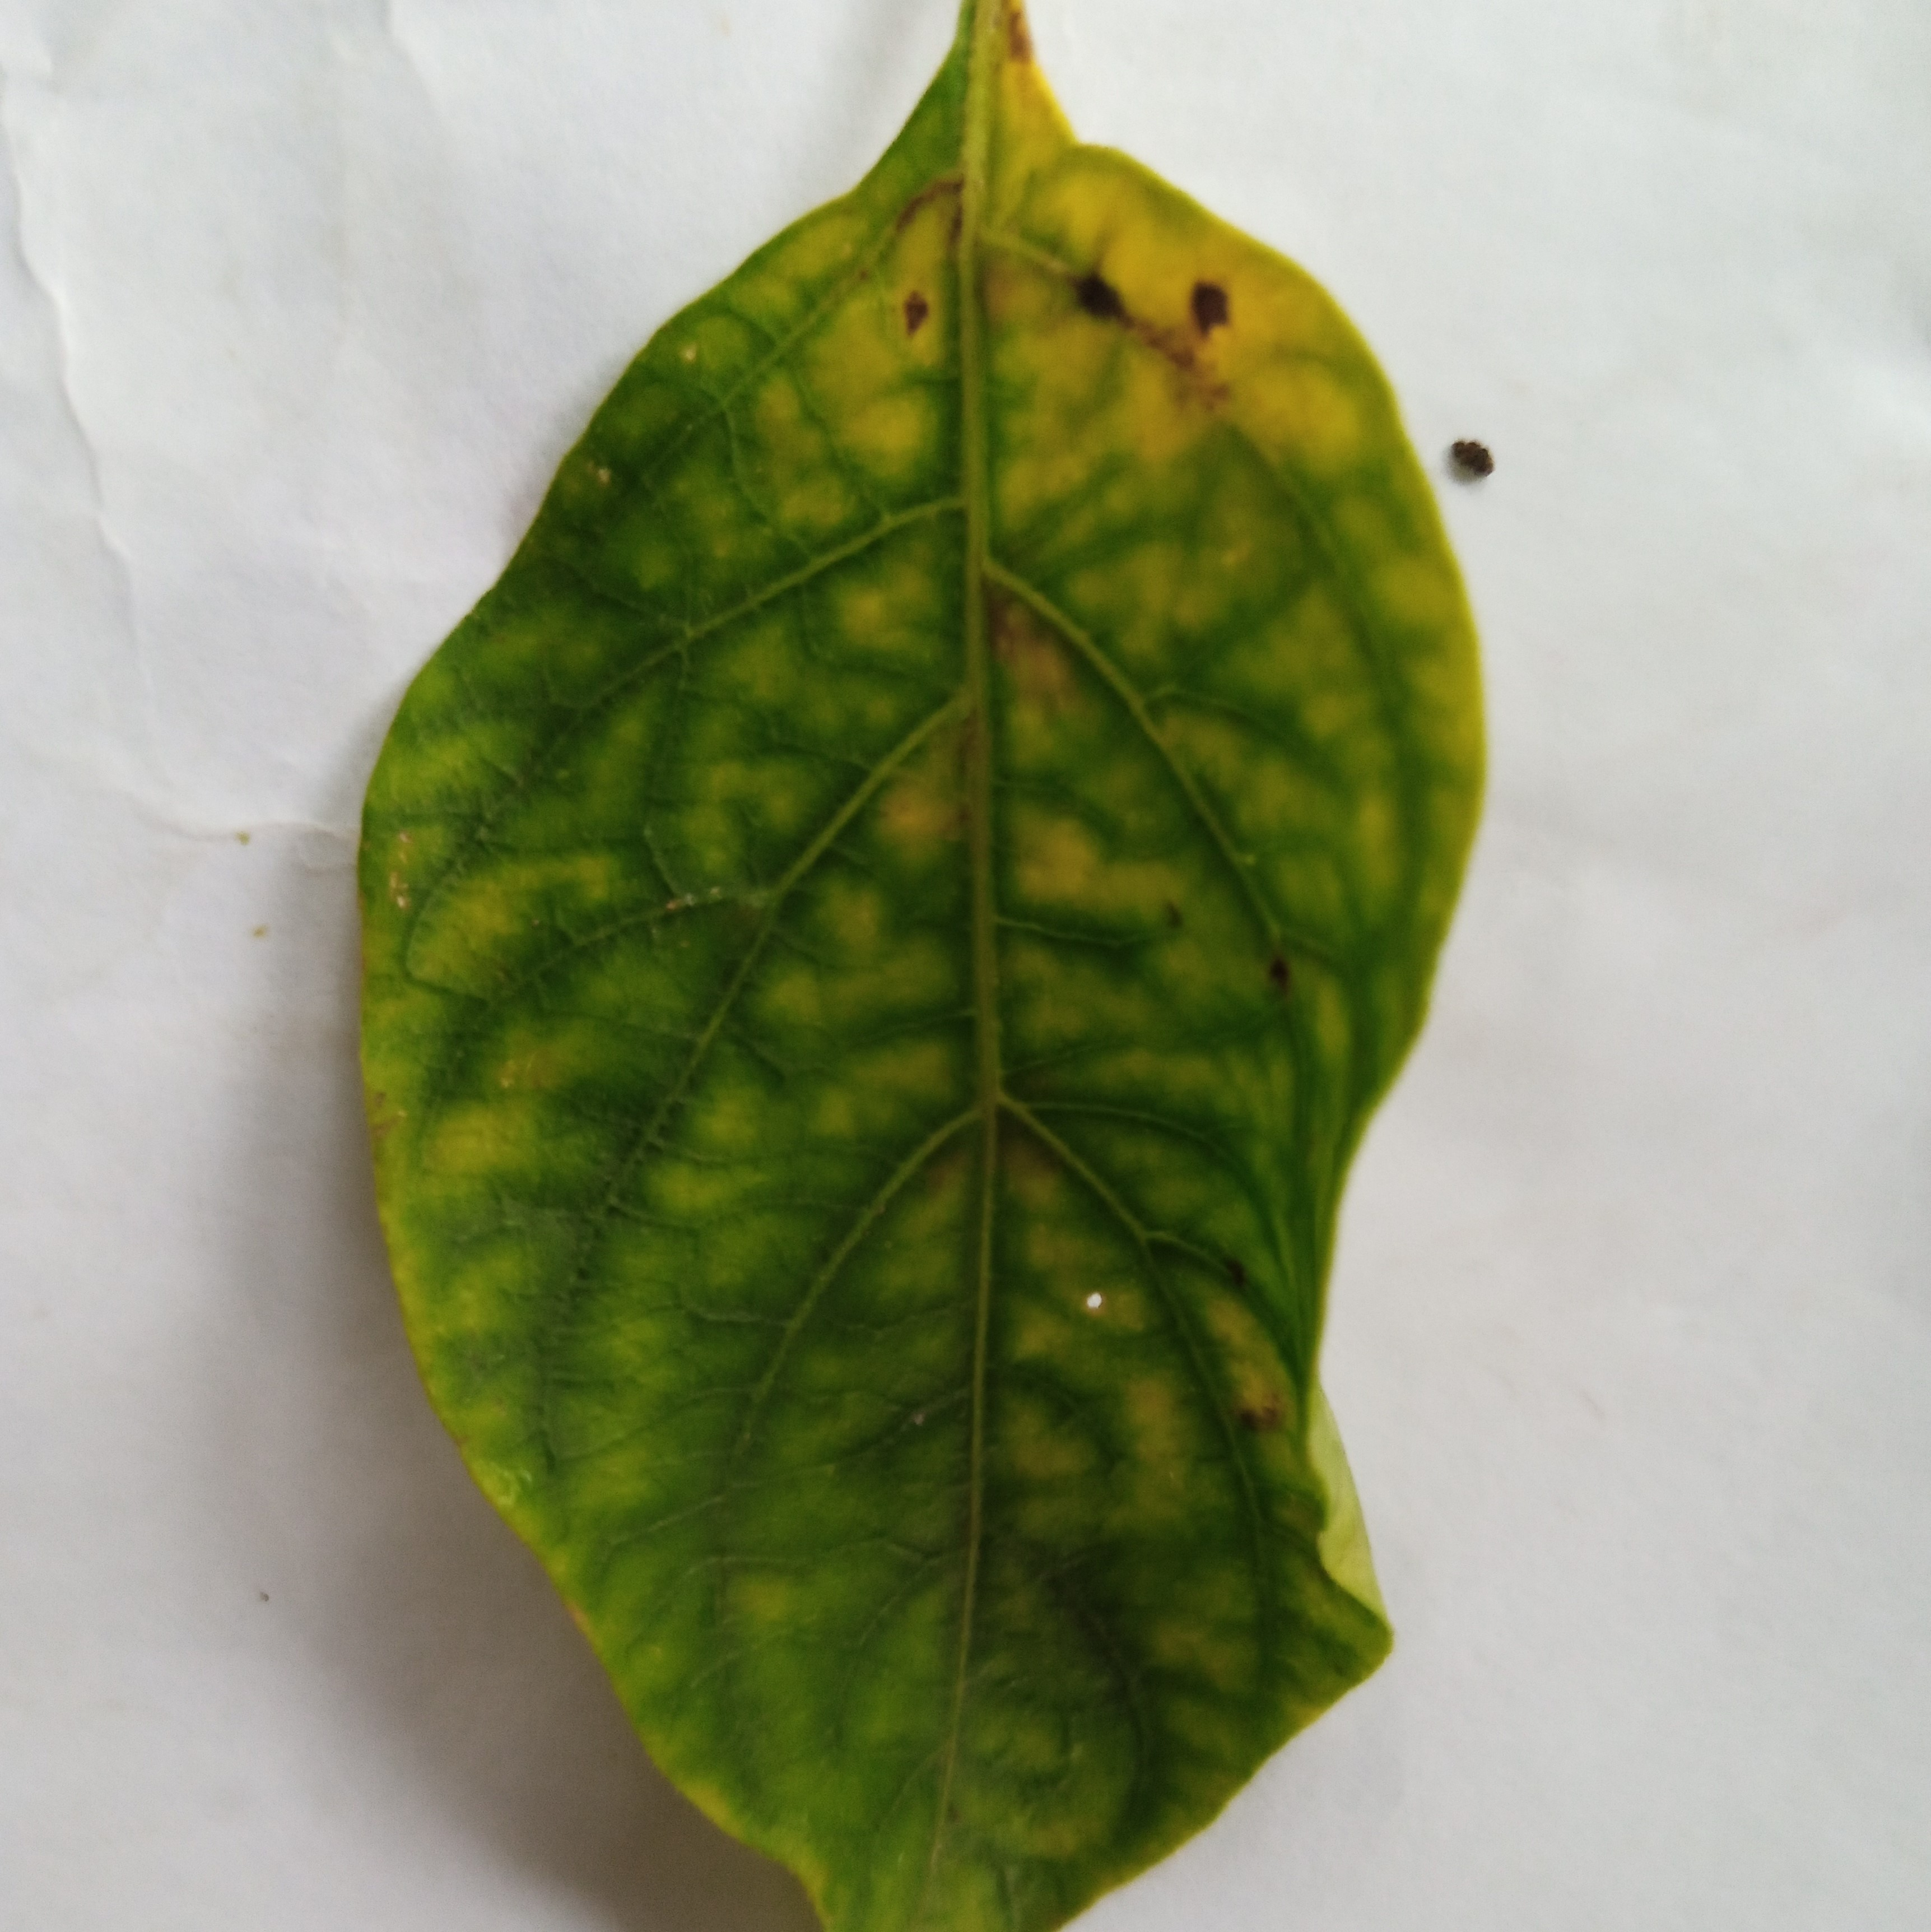Leaf: (175, 55, 1774, 1932)
